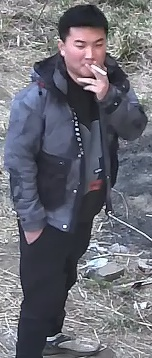smoking: (60, 14, 149, 141)
